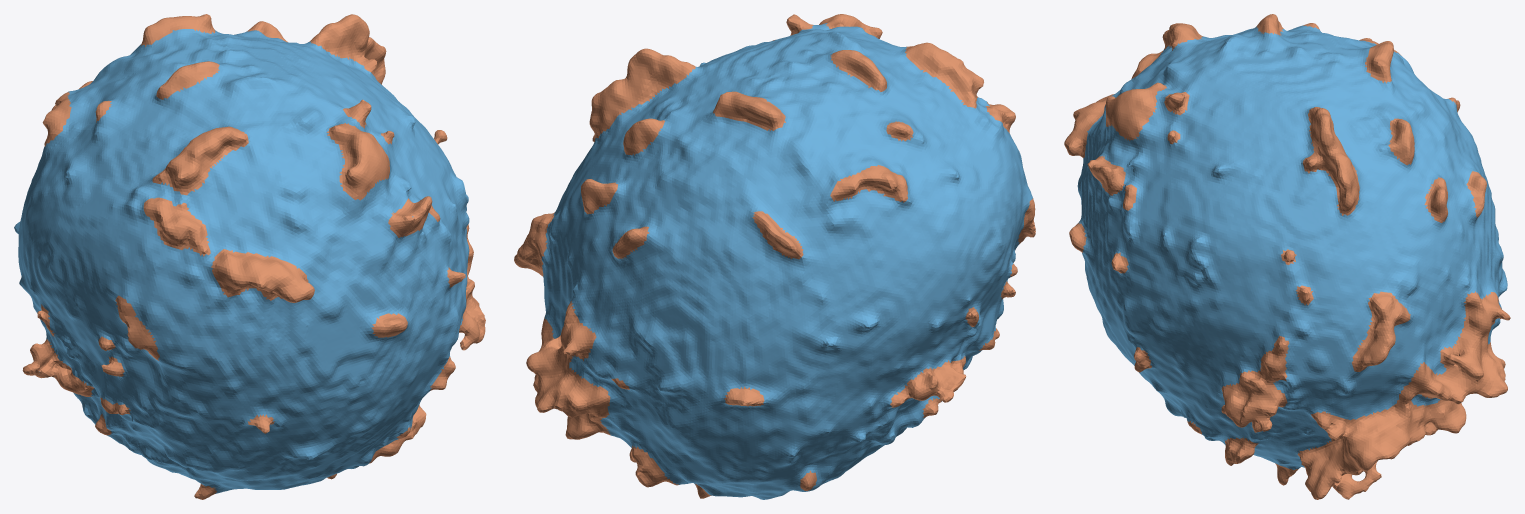
3 renders of one model, left to right at view 1: azimuth 30°, elevation 25°; view 2: azimuth 150°, elevation 25°; view 3: azimuth 270°, elevation 25°, orthographic. The views are drawn at different scales.
Bounding box in the file's own units: 129 × 129 × 127.
